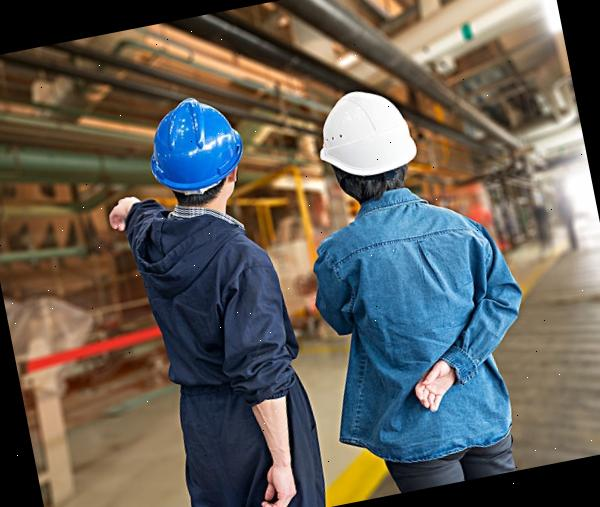helmet: (132, 83, 262, 210), (311, 82, 425, 189)
no_wear: (317, 195, 524, 464), (137, 207, 294, 422)
